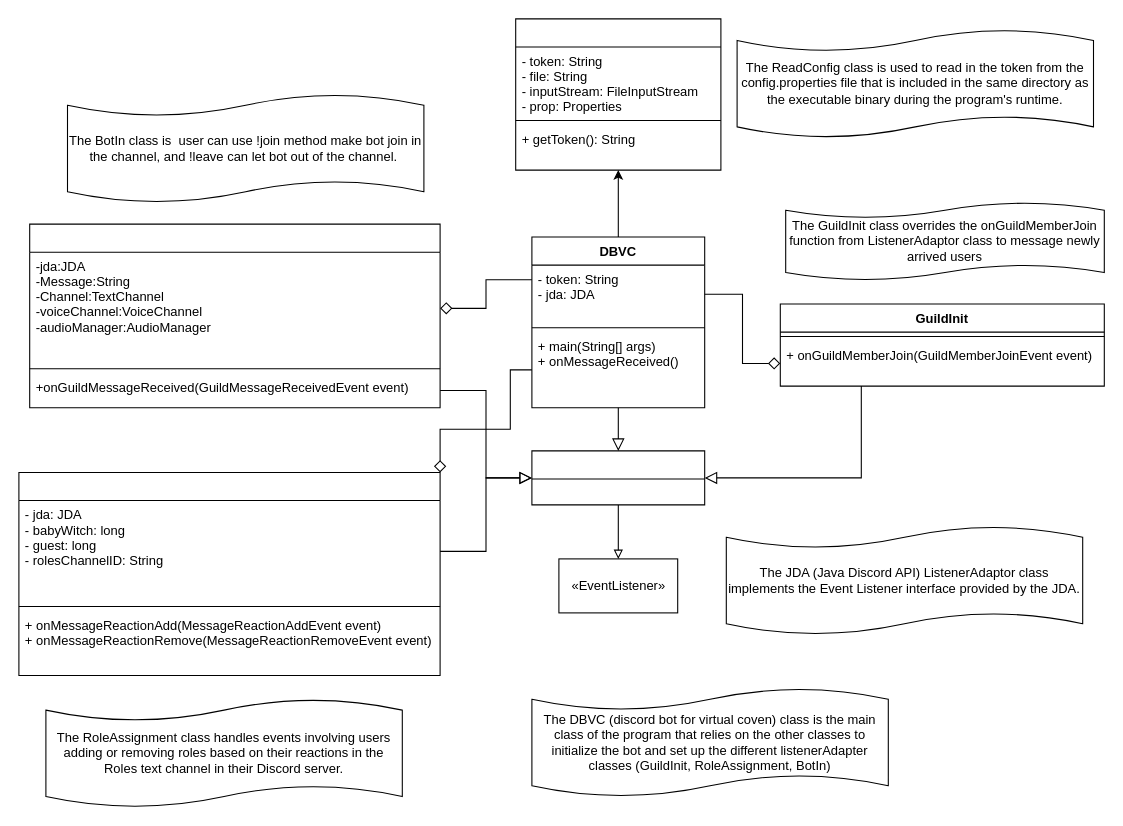
The diagram is 1123 pixels wide and 826 high, and some of its shapes have lost their labels. Here are the shapes that lost their labels. From the top down, the box of each, then its label:
(515, 18, 721, 170): ReadConfig
(29, 223, 440, 408): BotIn
(531, 450, 705, 505): ListenerAdapter
(18, 471, 440, 676): RoleAssignment
